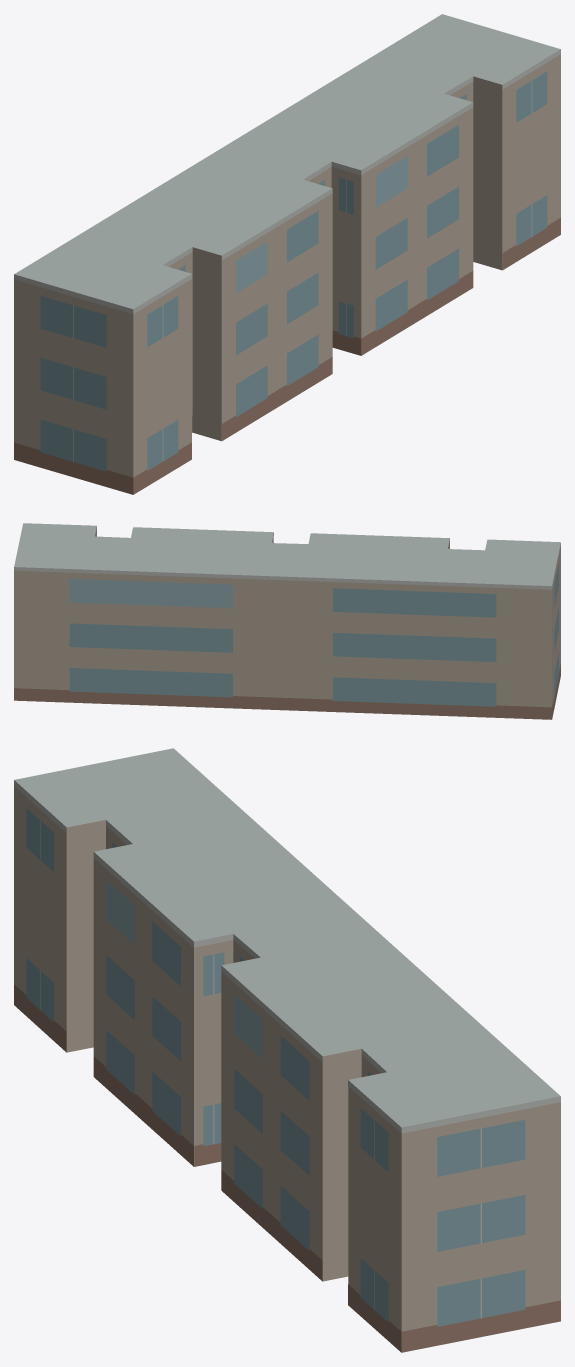
File: survey-upis-32615038.glb
3 views of the same model, one above another, from view 1: azimuth 30°, elevation 25°; view 2: azimuth 150°, elevation 25°; view 3: azimuth 270°, elevation 25° (orthographic). The views are drawn at different scales.
Parts seen in each view (by area): view 1: survey-upis-32615038.tmp; view 2: survey-upis-32615038.tmp; view 3: survey-upis-32615038.tmp.
Boxes of the visible parts, x1,y1,x2,y2 form: survey-upis-32615038.tmp: [14, 14, 560, 494]; survey-upis-32615038.tmp: [14, 523, 560, 719]; survey-upis-32615038.tmp: [14, 748, 560, 1352].
Size of the model in its own units: 33.07 by 9.15 by 20.15.
